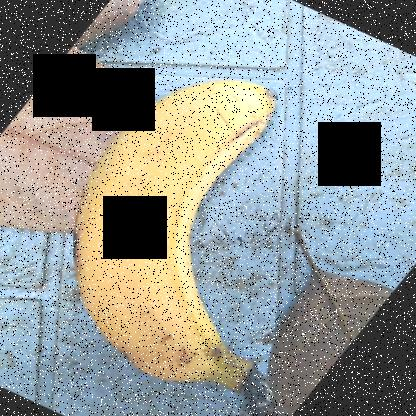freshripe: (25, 78, 301, 414)
